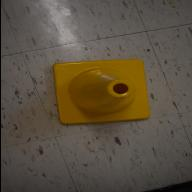cone: (50, 58, 150, 124)
